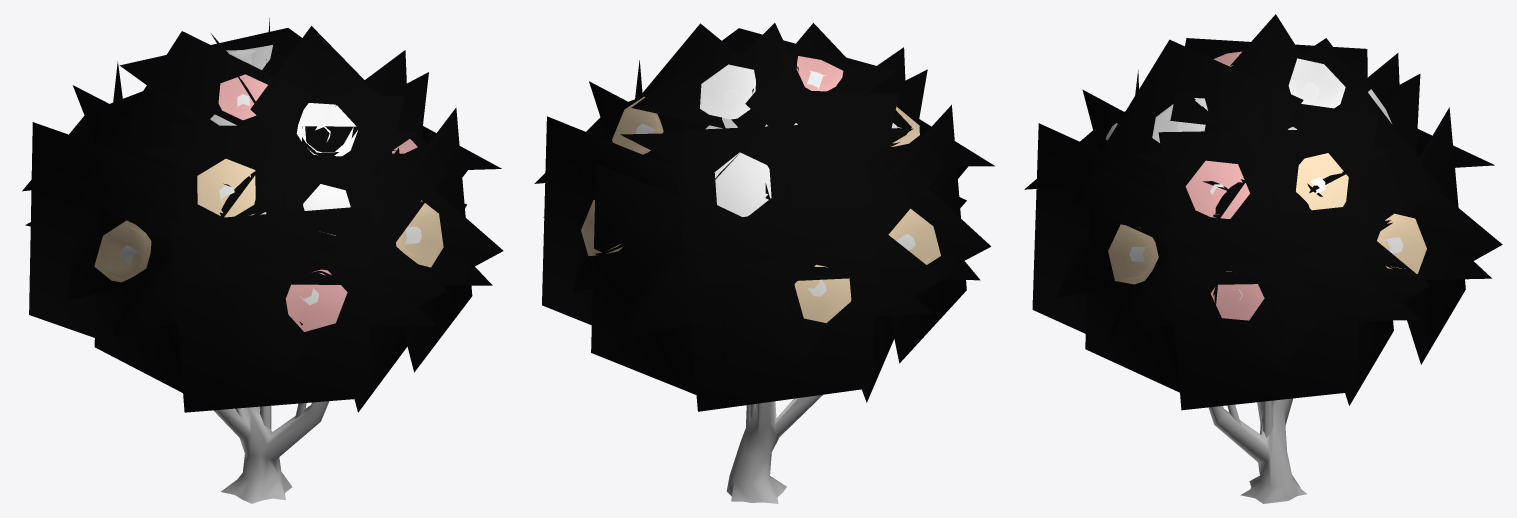
Rendered from flower-tree.glb.
3 views of the same model, side by side, from view 1: azimuth 30°, elevation 25°; view 2: azimuth 150°, elevation 25°; view 3: azimuth 270°, elevation 25° (orthographic). The views are drawn at different scales.
Parts seen in each view (by area): view 1: flower-tree; view 2: flower-tree; view 3: flower-tree.
Part boxes in pixels (x1,y1,x2,y2): flower-tree: (22,18,503,503); flower-tree: (534,23,994,503); flower-tree: (1024,14,1502,503).
Size of the model in its own units: 2.2 by 2.43 by 2.26.
